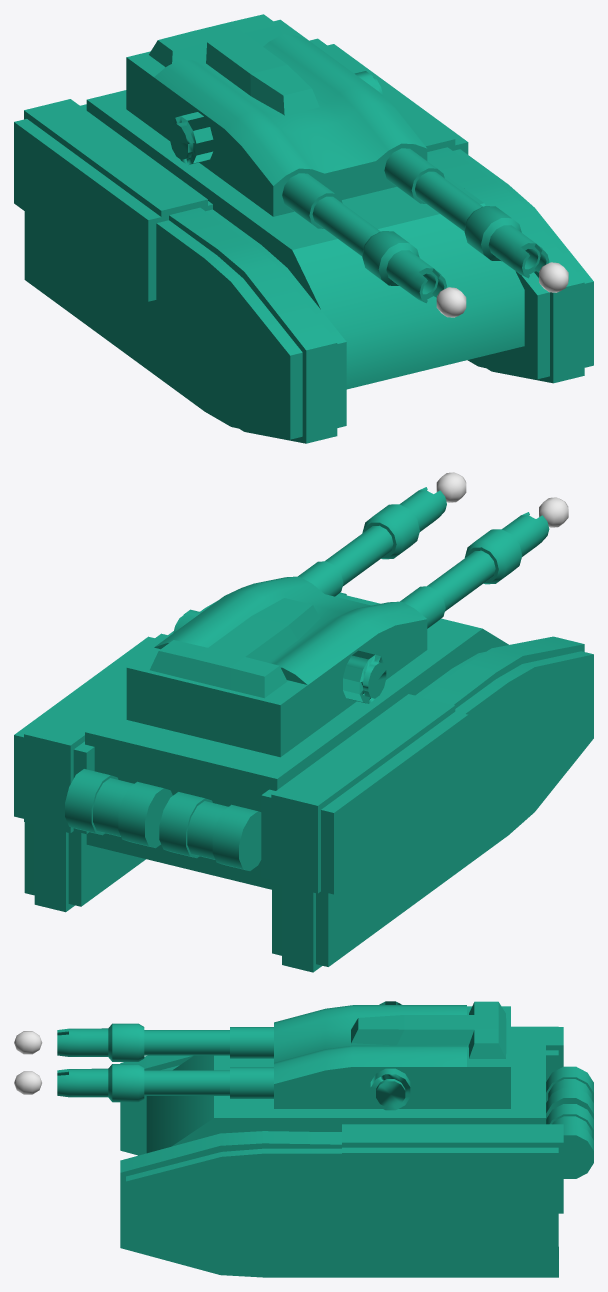
Rendered from falchion.FBX.
3 views of the same model, one above another, from view 1: azimuth 30°, elevation 25°; view 2: azimuth 150°, elevation 25°; view 3: azimuth 270°, elevation 25° (orthographic). The views are drawn at different scales.
Visible parts, largest first — view 1: Box003, Sphere001, Sphere002; view 2: Box003, Sphere002, Sphere001; view 3: Box003, Sphere001, Sphere002.
Boxes of the visible parts, x1=… form: Box003: x1=14, y1=14, x2=593, y2=443; Sphere001: x1=436, y1=287, x2=466, y2=317; Sphere002: x1=539, y1=262, x2=568, y2=292; Box003: x1=14, y1=487, x2=593, y2=972; Sphere002: x1=436, y1=472, x2=466, y2=502; Sphere001: x1=539, y1=497, x2=568, y2=527; Box003: x1=57, y1=1001, x2=593, y2=1277; Sphere001: x1=14, y1=1031, x2=42, y2=1054; Sphere002: x1=14, y1=1071, x2=41, y2=1094.
Bounding box in the file's own units: 83.49 × 61.86 × 162.
